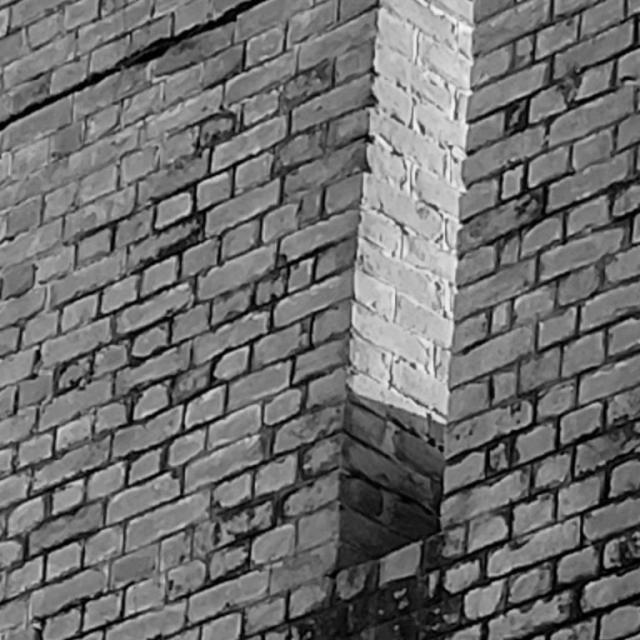crack: (1, 1, 264, 130)
